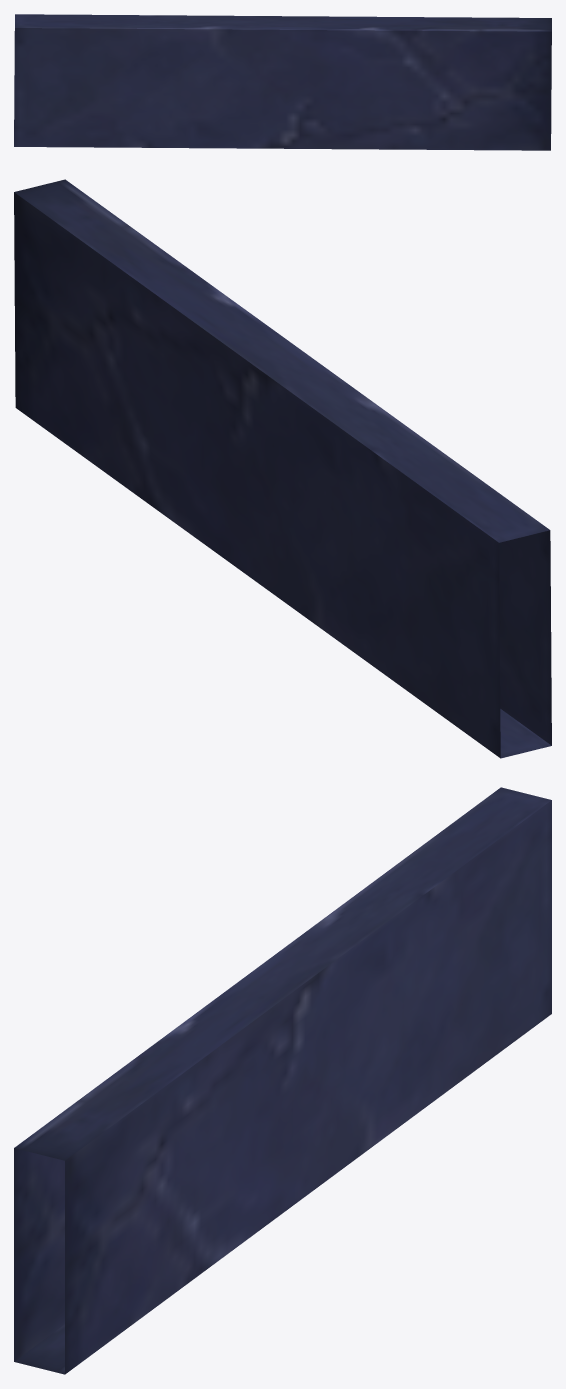
Rendered from Area08_20.fbx.
3 renders of one model, top to bottom at view 1: azimuth 30°, elevation 25°; view 2: azimuth 150°, elevation 25°; view 3: azimuth 270°, elevation 25°, orthographic. The views are drawn at different scales.
Visible parts, largest first — view 1: Area08_20; view 2: Area08_20; view 3: Area08_20.
Boxes of the visible parts, x1,y1,x2,y2 form: Area08_20: (14,14,551,150); Area08_20: (14,179,551,758); Area08_20: (14,787,551,1374).
Size of the model in its own units: 814 by 228 by 503.
